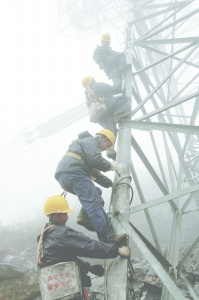yellow: (40, 192, 72, 227), (92, 127, 115, 151), (79, 75, 96, 88), (99, 32, 112, 47)
